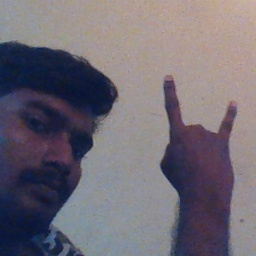V: (153, 71, 247, 203)
